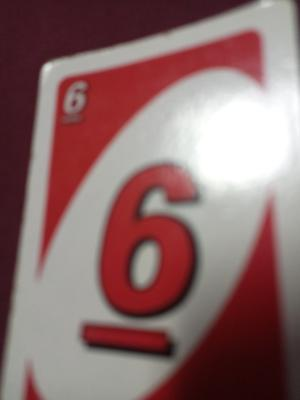num_6: (69, 145, 210, 375)
